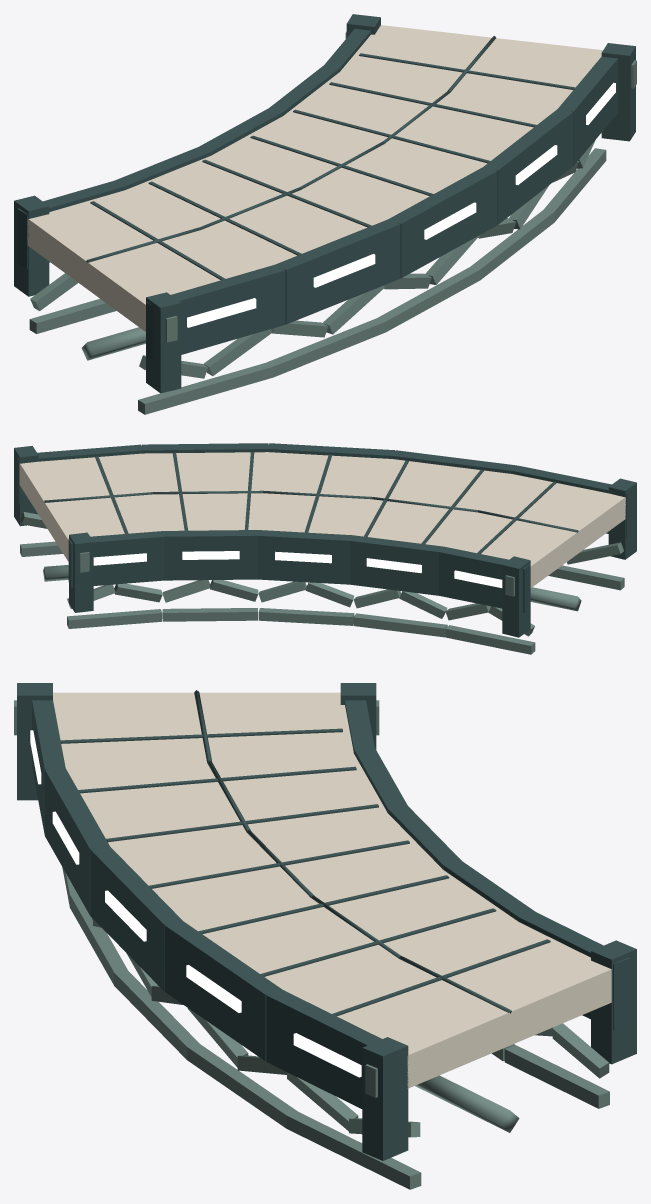
The model's file is Curve_W45_lab.glb.
3 views of the same model, one above another, from view 1: azimuth 30°, elevation 25°; view 2: azimuth 150°, elevation 25°; view 3: azimuth 270°, elevation 25° (orthographic). The views are drawn at different scales.
Visible parts, largest first — view 1: Curve_W45; view 2: Curve_W45; view 3: Curve_W45.
Boxes of the visible parts, x1=… form: Curve_W45: x1=14, y1=14, x2=636, y2=414; Curve_W45: x1=14, y1=443, x2=636, y2=654; Curve_W45: x1=14, y1=683, x2=636, y2=1189.
Size of the model in its own units: 8.44 by 1.52 by 5.93.
